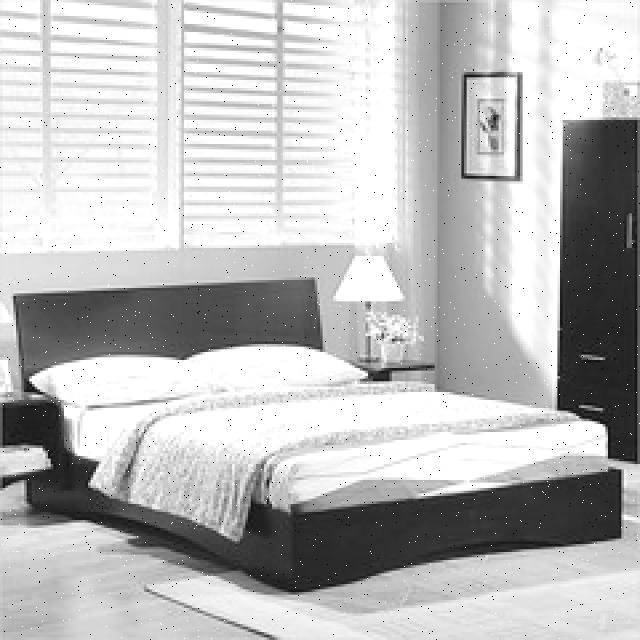bed: (18, 294, 624, 552)
